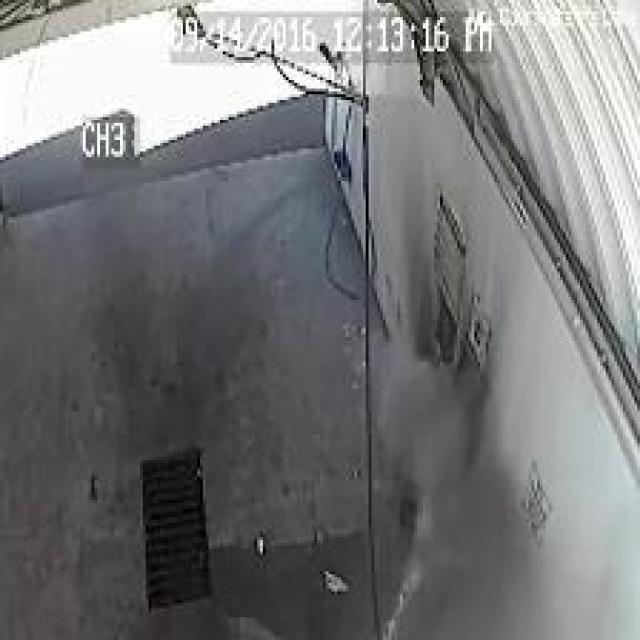fire: (373, 352, 470, 484)
